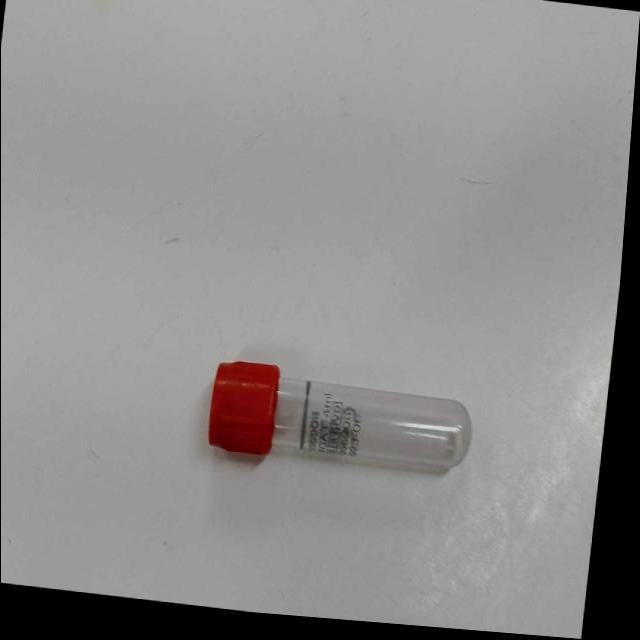General: (207, 358, 281, 457)
Sharps: (207, 359, 473, 475)
